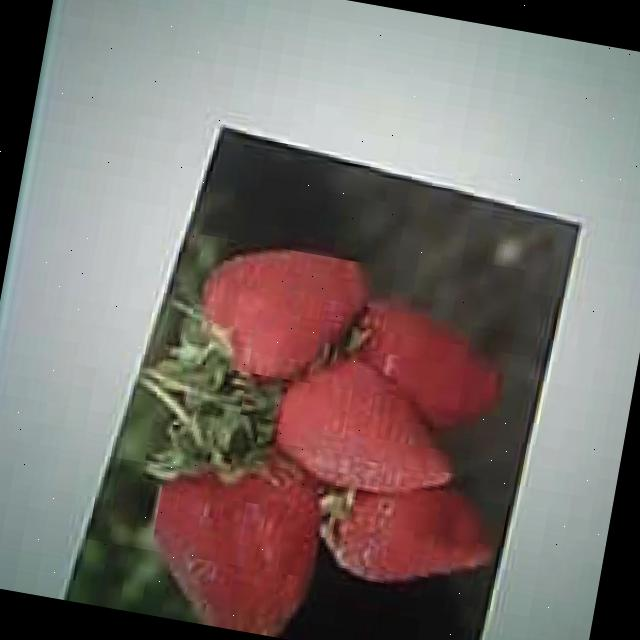strawberry: (135, 454, 329, 640), (269, 352, 463, 503), (191, 236, 371, 394), (320, 468, 501, 601)
